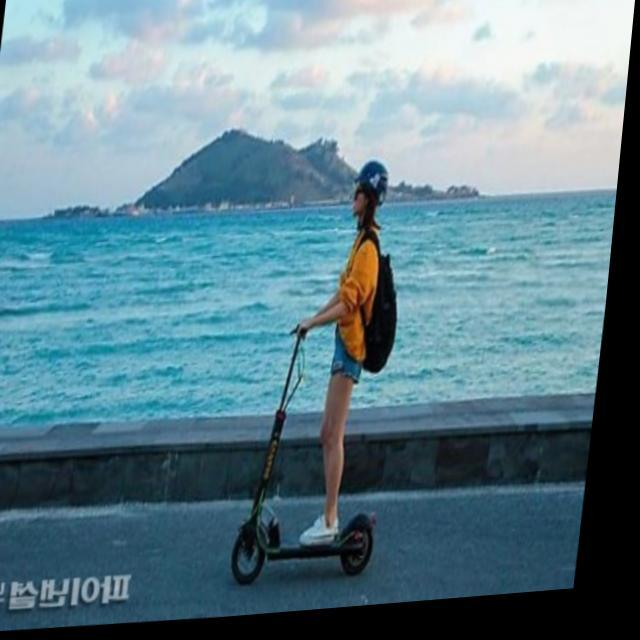Helmet: (346, 156, 394, 225)
